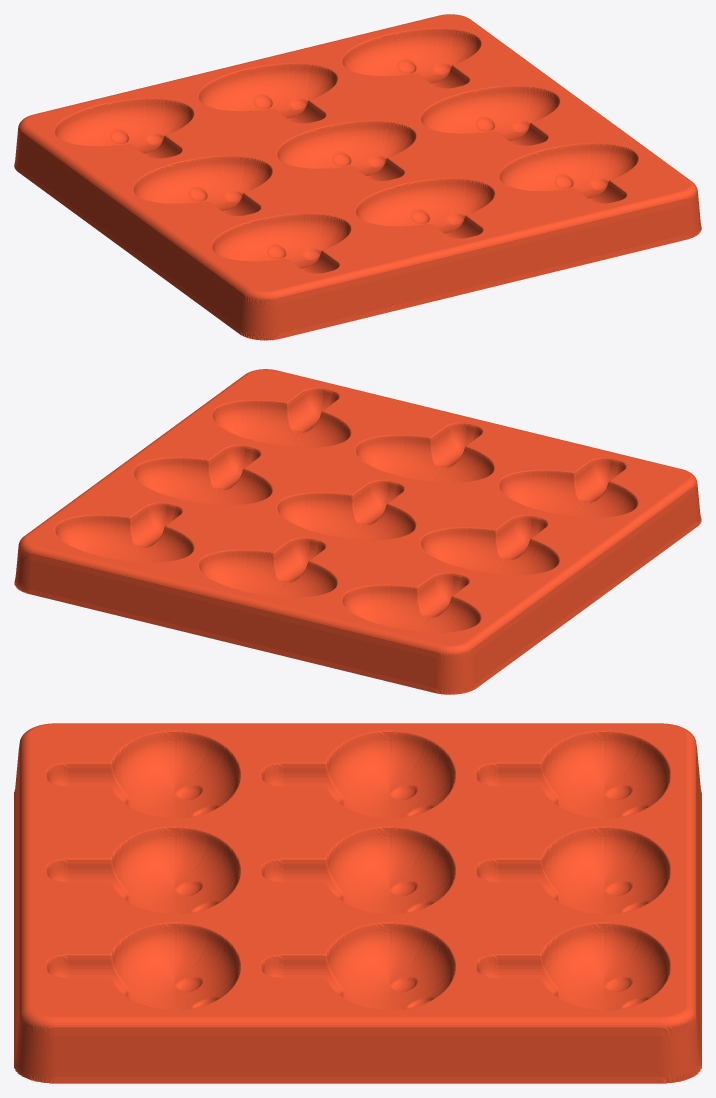
The model's file is mold.glb.
3 renders of one model, top to bottom at view 1: azimuth 30°, elevation 25°; view 2: azimuth 150°, elevation 25°; view 3: azimuth 270°, elevation 25°, orthographic. The views are drawn at different scales.
Visible parts, largest first — view 1: geometry_0; view 2: geometry_0; view 3: geometry_0.
Part boxes in pixels (x1,y1,x2,y2): geometry_0: (14,14,701,340); geometry_0: (14,369,701,694); geometry_0: (14,723,701,1083).
Bounding box in the file's own units: 0.1579 × 0.0145 × 0.15.
